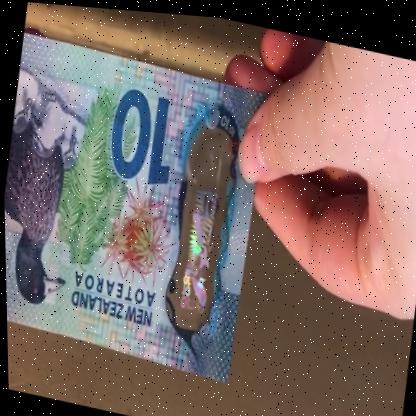10F: (171, 142, 230, 317)
